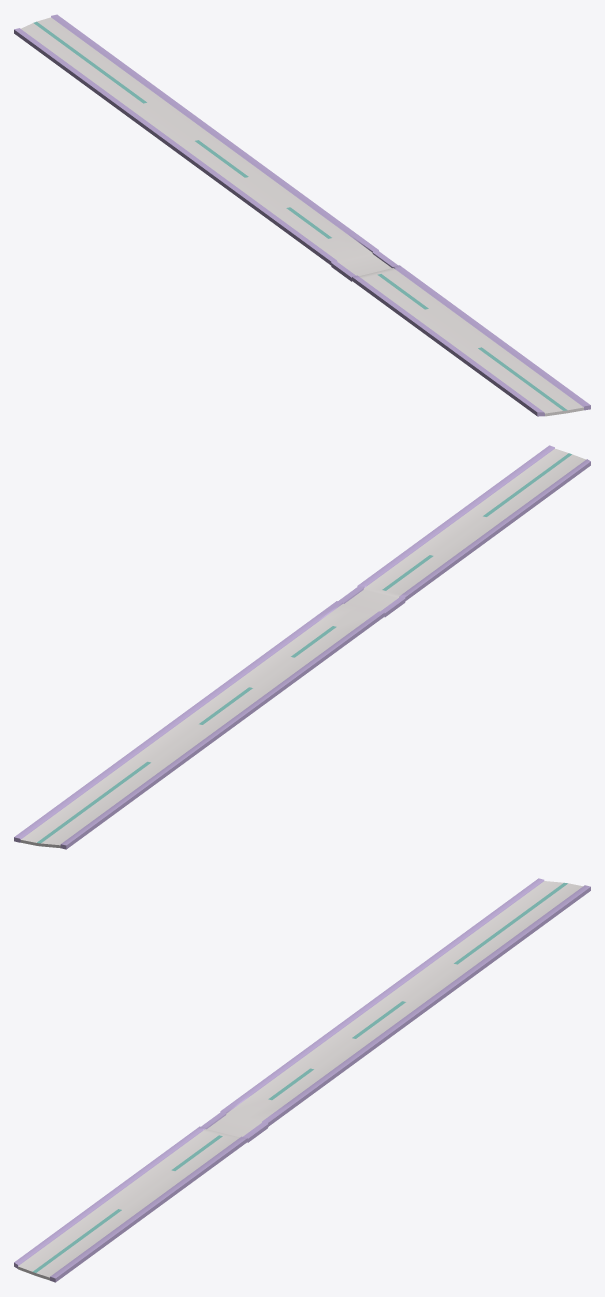
Rendered from Driveway_2.fbx.
3 renders of one model, top to bottom at view 1: azimuth 30°, elevation 25°; view 2: azimuth 150°, elevation 25°; view 3: azimuth 330°, elevation 25°, orthographic.
Visible parts, largest first — view 1: Driveway_2; view 2: Driveway_2; view 3: Driveway_2.
Boxes of the visible parts, <box> form: Driveway_2: <box>14,14,590,416</box>; Driveway_2: <box>14,445,590,849</box>; Driveway_2: <box>14,878,590,1282</box>.
Bounding box in the file's own units: 310 × 6014 × 32.58.
